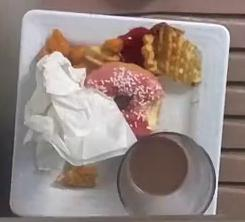carrots: (38, 29, 124, 68)
donut: (85, 62, 163, 137)
fries: (129, 22, 201, 85)
pizza_crust: (57, 162, 97, 187)
